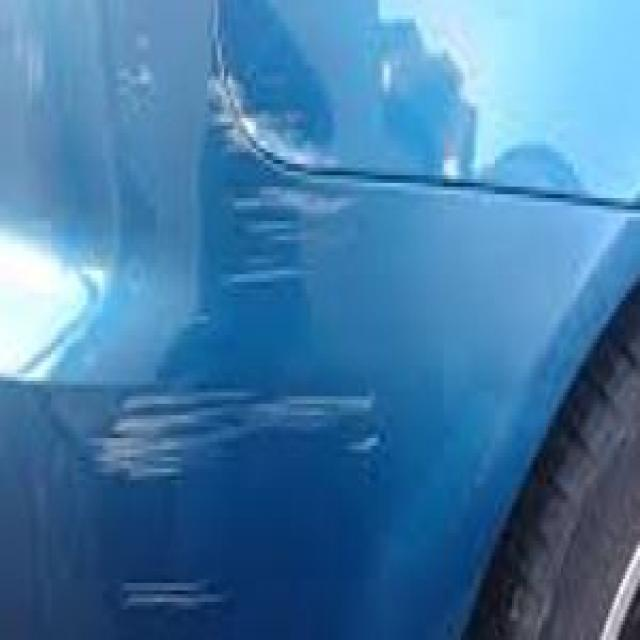scratch: (0, 0, 405, 636)
